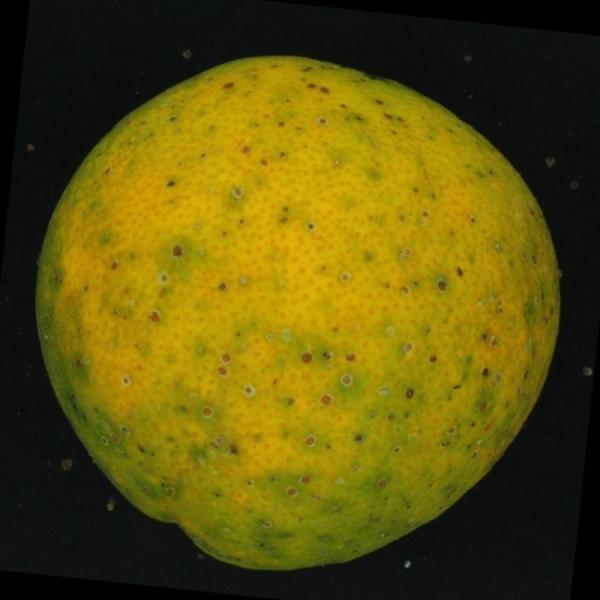Greening: (30, 40, 566, 575)
